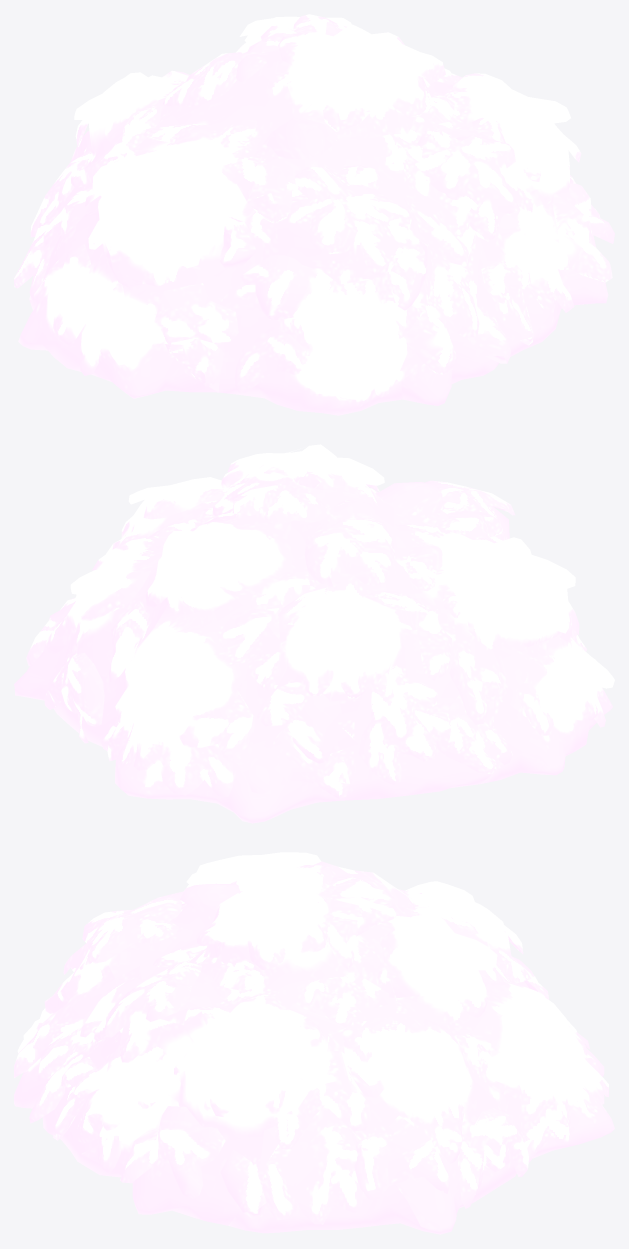
Rendered from arbusto-samambaia.glb.
The picture shows the model from 3 angles, top to bottom: view 1: azimuth 30°, elevation 25°; view 2: azimuth 150°, elevation 25°; view 3: azimuth 270°, elevation 25°; orthographic projection. The views are drawn at different scales.
Parts seen in each view (by area): view 1: mesh_node; view 2: mesh_node; view 3: mesh_node.
Part boxes in pixels (x1,y1,x2,y2): mesh_node: (14,14,614,415); mesh_node: (14,444,614,823); mesh_node: (14,852,614,1234).
Size of the model in its own units: 0.998 by 0.4512 by 0.998.
1 material, 1 textured.
